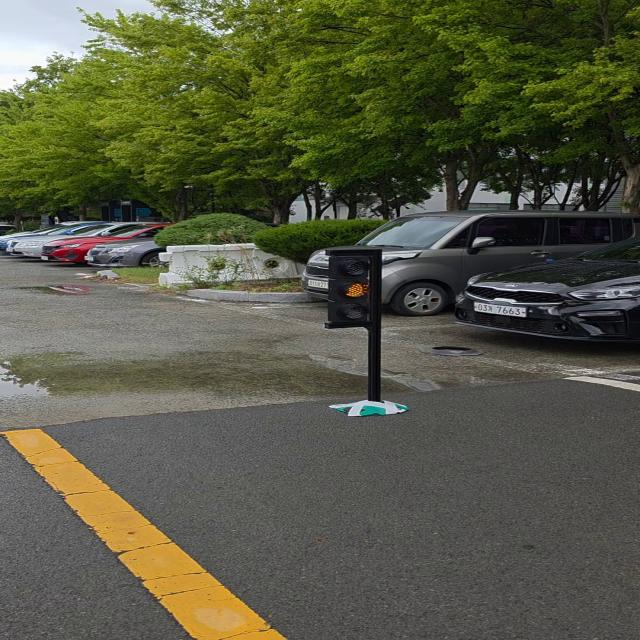yellow: (329, 251, 382, 329)
